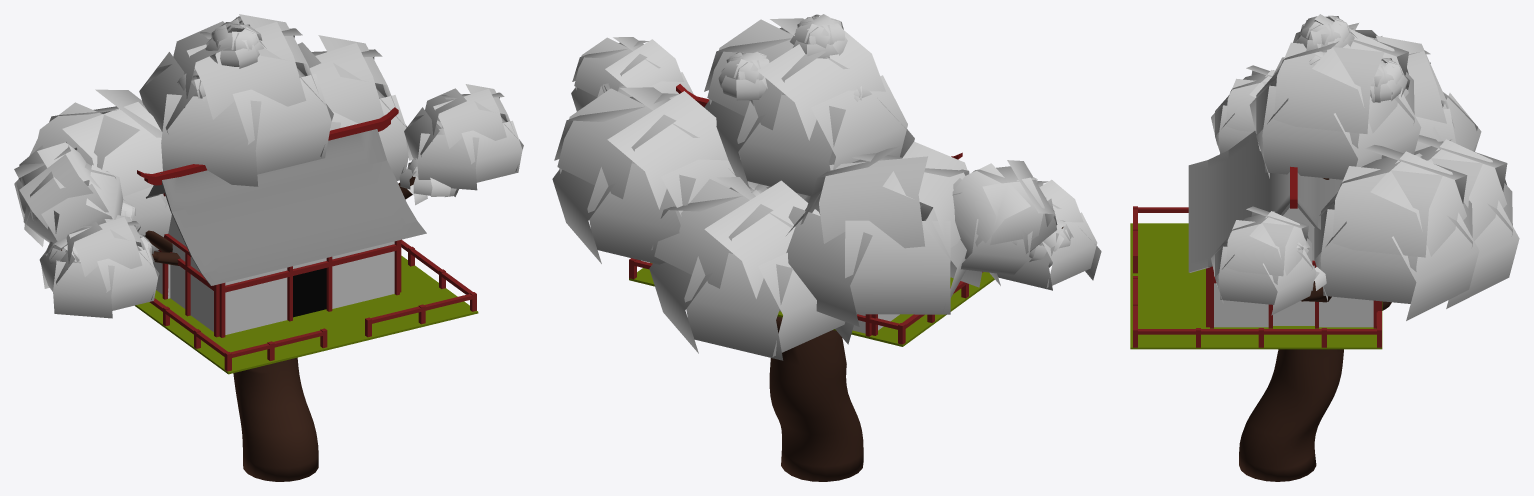
The picture shows the model from 3 angles, left to right: view 1: azimuth 30°, elevation 25°; view 2: azimuth 150°, elevation 25°; view 3: azimuth 270°, elevation 25°; orthographic projection. The views are drawn at different scales.
Visible parts, largest first — view 1: Leaves, Dojo1 (×5), Fence2 (×2), CherryTree; view 2: Leaves, CherryTree, Fence2 (×2); view 3: Leaves, Dojo1 (×3), Fence2 (×2), CherryTree.
Part boxes in pixels (x1=…): Leaves: x1=14, y1=14, x2=523, y2=318; Dojo1 (×5): x1=137, y1=107, x2=426, y2=337; Fence2 (×2): x1=135, y1=239, x2=478, y2=374; CherryTree: x1=61, y1=176, x2=415, y2=481; Leaves: x1=552, y1=14, x2=1101, y2=360; CherryTree: x1=769, y1=227, x2=1063, y2=481; Fence2 (×2): x1=629, y1=258, x2=994, y2=346; Leaves: x1=1211, y1=14, x2=1519, y2=320; Dojo1 (×3): x1=1188, y1=131, x2=1381, y2=328; Fence2 (×2): x1=1130, y1=206, x2=1382, y2=349; CherryTree: x1=1239, y1=178, x2=1391, y2=481.
Bounding box in the file's own units: 26.37 × 23.02 × 18.55.
